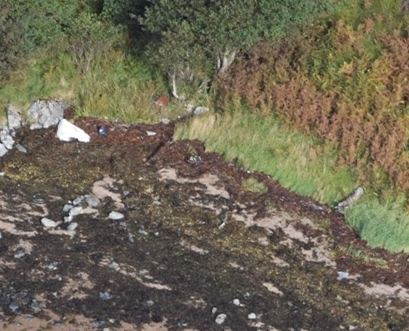scattered_barrel: (93, 85, 172, 141)
white_in_green: (33, 98, 107, 162)
